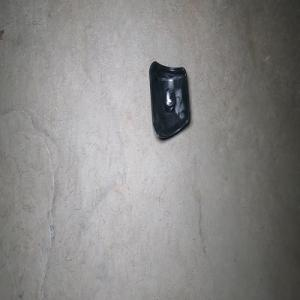LuggagePart: (148, 59, 191, 141)
